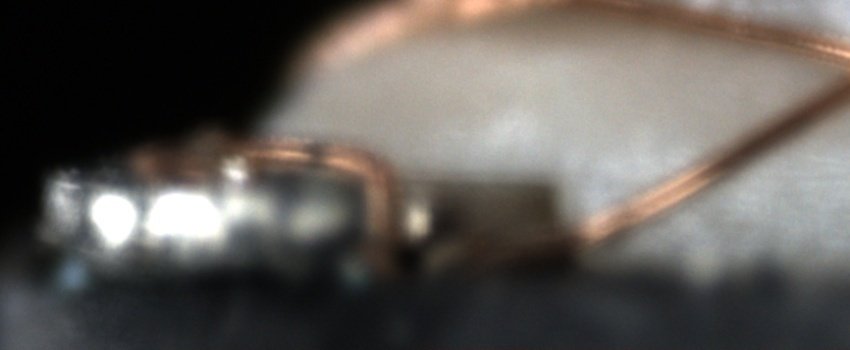TE: (137, 136, 415, 271)
